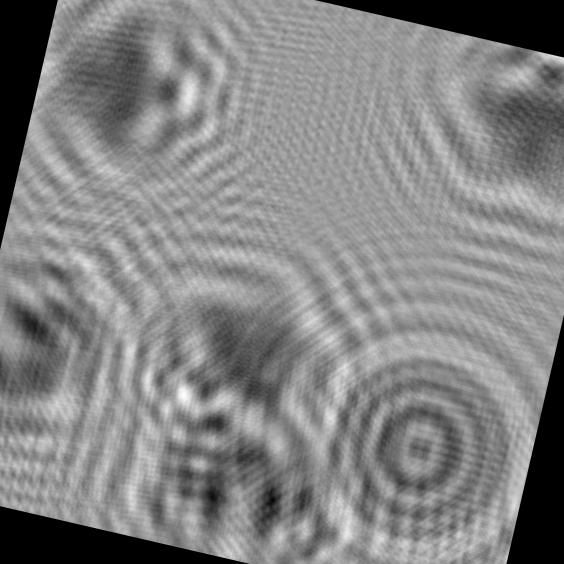K: (90, 215, 376, 496), (12, 0, 291, 248), (350, 18, 564, 263)
M: (0, 216, 181, 526), (91, 378, 383, 564)
O: (261, 294, 556, 564)
